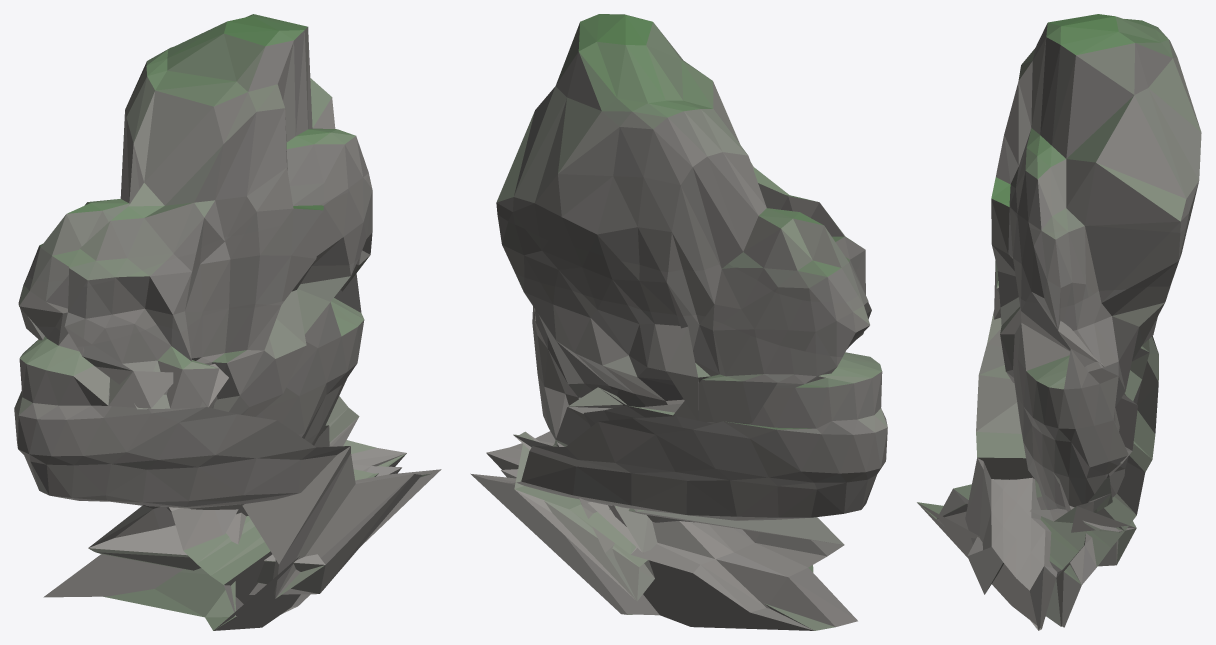
Rendered from Stein_5.fbx.
3 views of the same model, side by side, from view 1: azimuth 30°, elevation 25°; view 2: azimuth 150°, elevation 25°; view 3: azimuth 270°, elevation 25° (orthographic). The views are drawn at different scales.
Visible parts, largest first — view 1: Stein_5; view 2: Stein_5; view 3: Stein_5.
Part boxes in pixels (box(x1,y1,x2,y2)): Stein_5: box(14, 14, 441, 630); Stein_5: box(470, 14, 887, 630); Stein_5: box(917, 14, 1201, 630).
Bounding box in the file's own units: 0.5181 × 0.7 × 0.3013.
